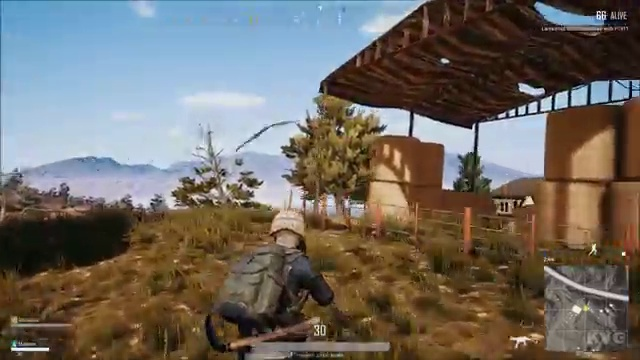Player: (215, 197, 349, 326)
